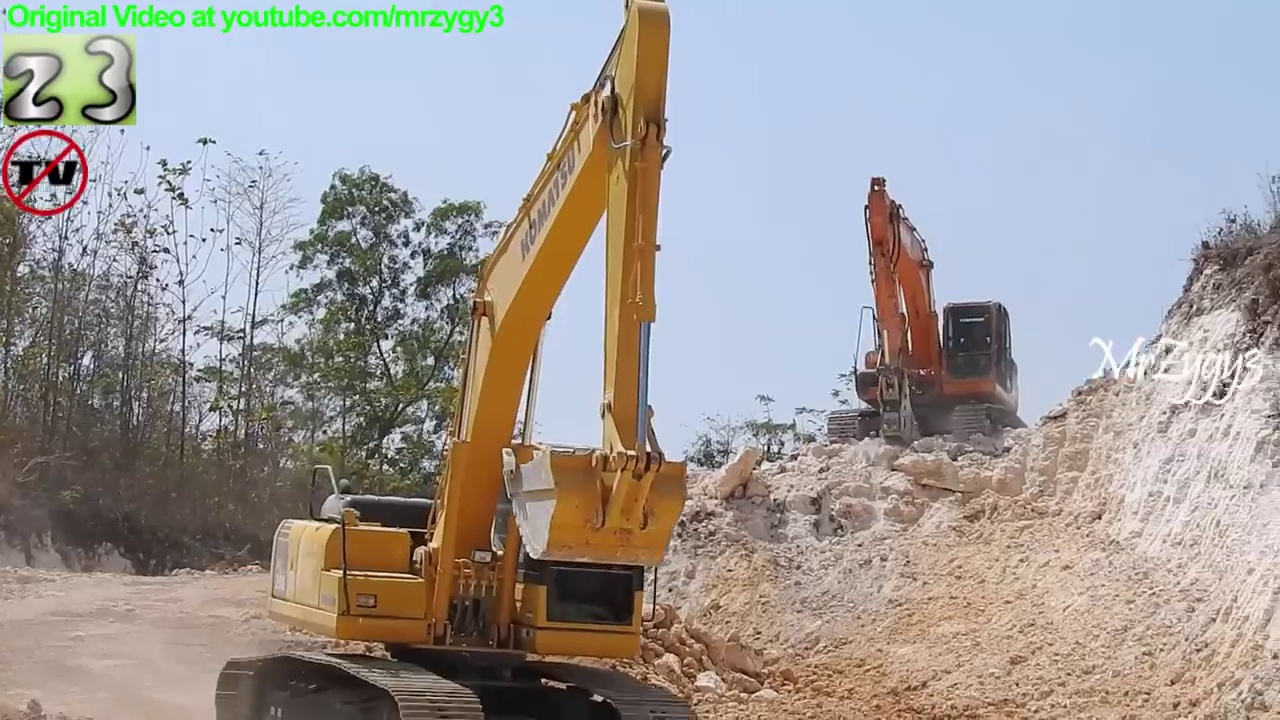excavator: (210, 1, 706, 720), (824, 169, 1034, 459)
